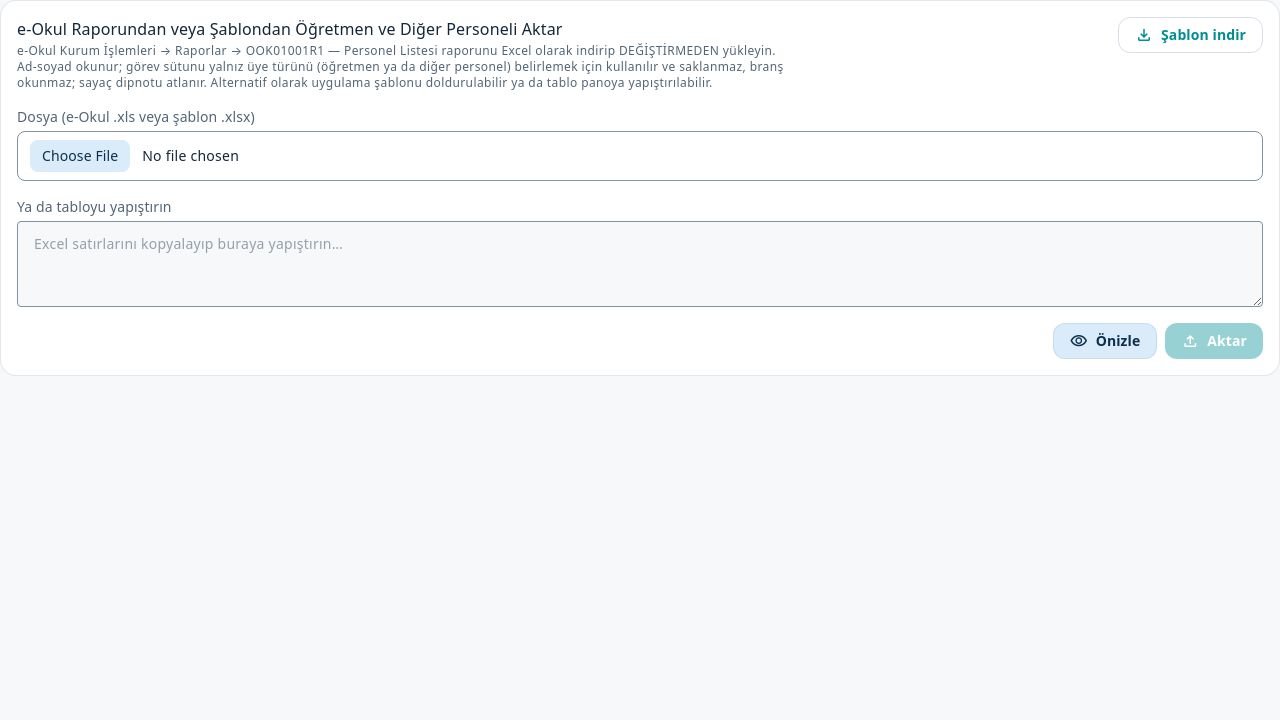
Test: AktarimPaneli — personel mutabakatı ve ayrılış havuzu › üye türü denetim uyarısı sayıyla gösterilir, alan adı Türkçedir
This screenshot has width=1280, height=720.
Step 1. Type "liste" into the text box labelled "Ya da tabloyu yapıştırın" → (640, 264), box [17,221,1263,307]
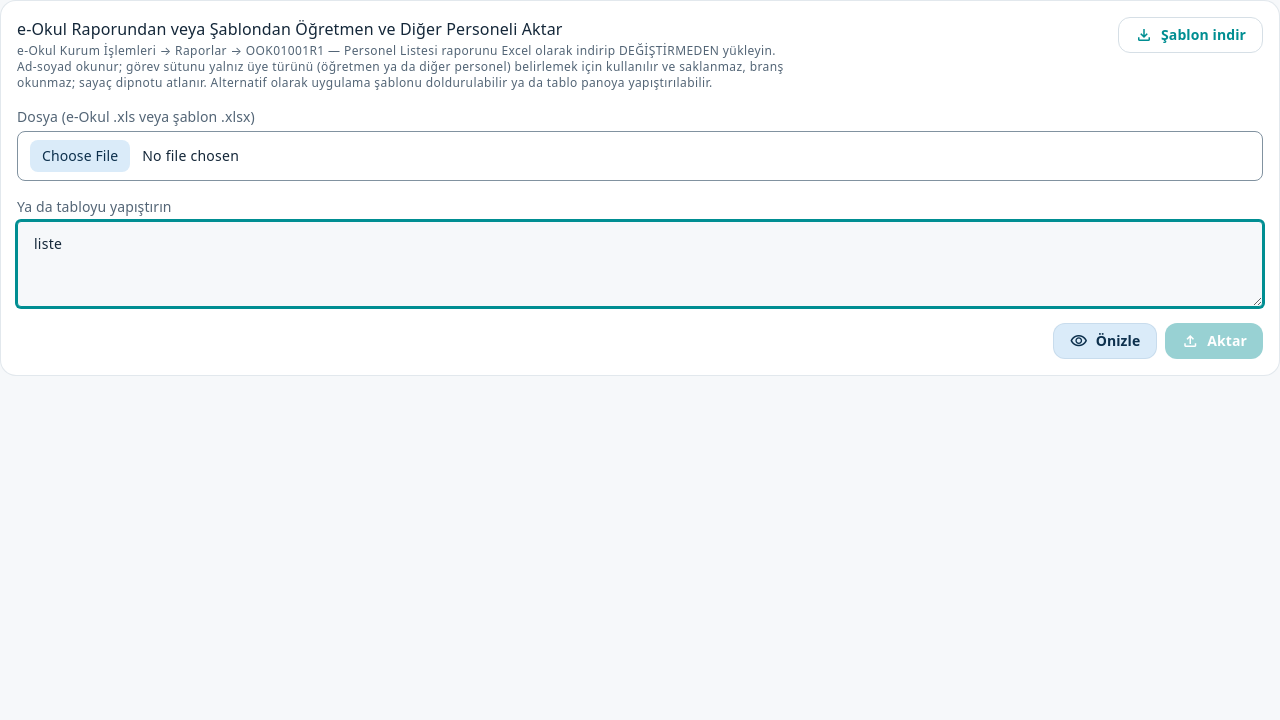
Step 2. Click the button "Önizle" → click(1105, 341), box [1053,323,1157,359]
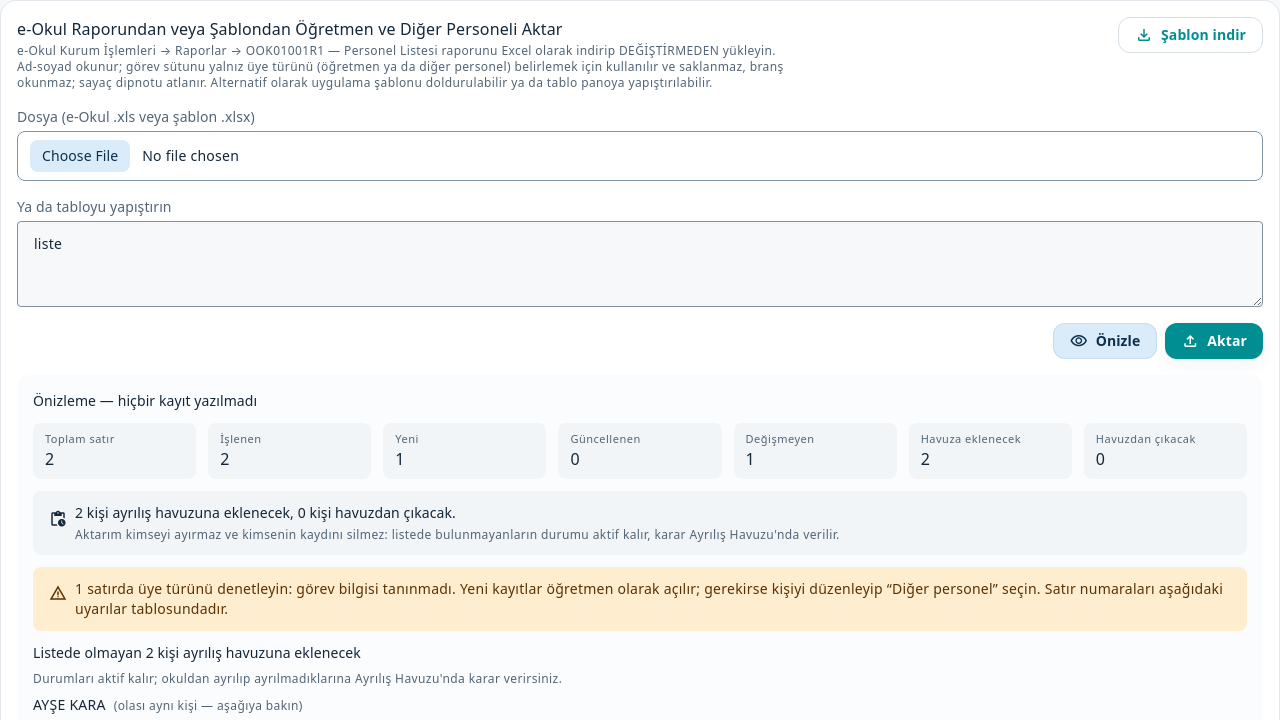
Check: the text "1 satırda üye türünü denetleyin" is shown, box [75,579,1231,619]
Check: the text "Havuza eklenecek" is shown, box [921,431,1021,446]
Check: the text "2 kişi ayrılış havuzuna eklenecek, 0 kişi havuzdan çıkacak." is shown, box [75,503,456,522]
